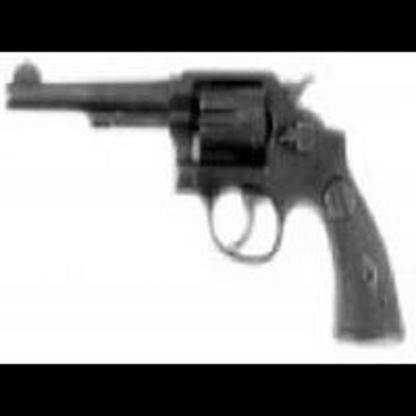weapon: (4, 59, 403, 356)
